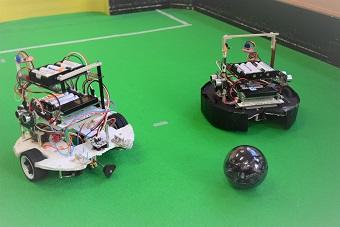Robot: (6, 46, 137, 186), (198, 26, 304, 136)
